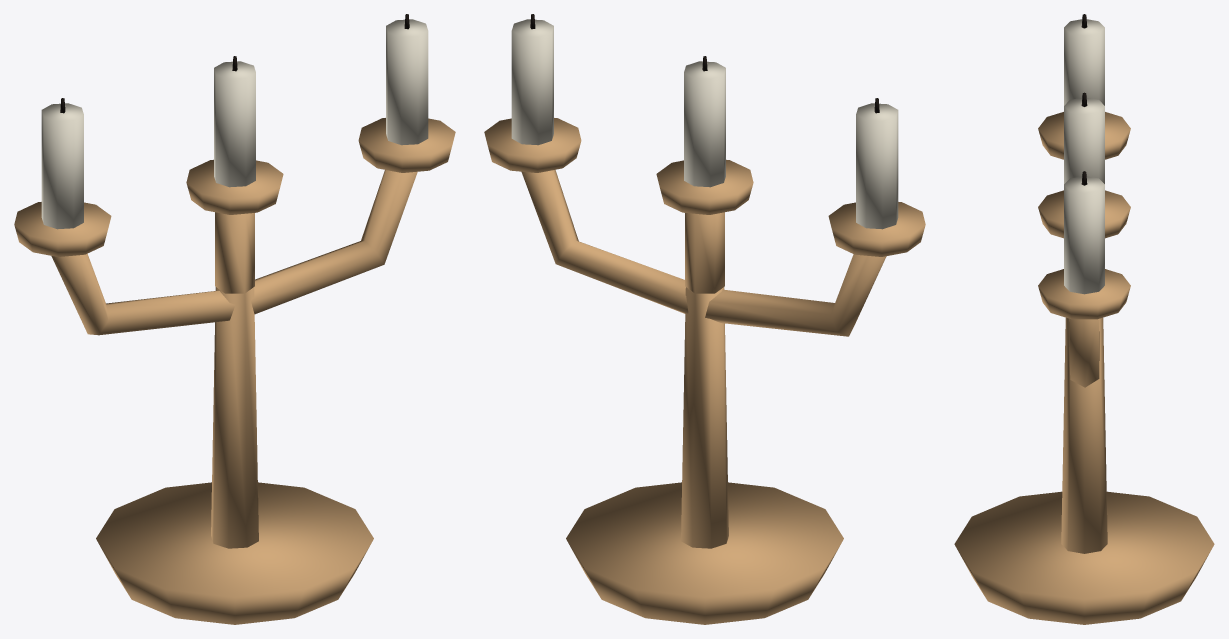
File: palm_candelabra_v0.glb
3 renders of one model, left to right at view 1: azimuth 30°, elevation 25°; view 2: azimuth 150°, elevation 25°; view 3: azimuth 270°, elevation 25°, orthographic. The views are drawn at different scales.
Parts seen in each view (by area): view 1: palm_candelabra_v0; view 2: palm_candelabra_v0; view 3: palm_candelabra_v0.
Boxes of the visible parts, left/top/right/bottom form: palm_candelabra_v0: left=14, top=14, right=455, bottom=624; palm_candelabra_v0: left=484, top=14, right=925, bottom=624; palm_candelabra_v0: left=954, top=14, right=1214, bottom=624.
Size of the model in its own units: 0.4951 by 0.575 by 0.28.
